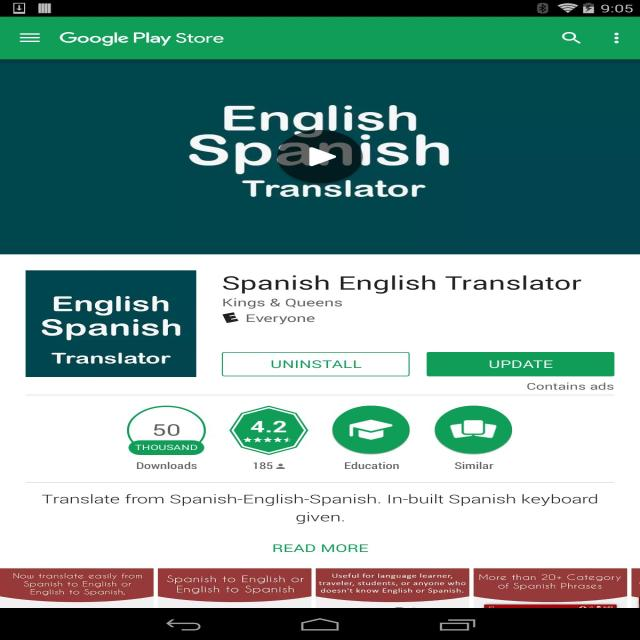button: (426, 352, 614, 377), (222, 352, 409, 376), (276, 132, 363, 181), (18, 30, 43, 47), (559, 30, 581, 49), (608, 29, 628, 46)
heading: (218, 273, 586, 293), (59, 30, 226, 46)
image: (1, 61, 639, 254), (26, 271, 196, 376), (330, 403, 412, 456), (225, 405, 312, 454), (122, 405, 208, 454), (436, 402, 512, 454)
link: (268, 542, 372, 555)
text: (40, 493, 600, 525), (8, 571, 146, 599), (318, 572, 467, 597), (162, 573, 307, 598), (221, 296, 345, 325), (478, 573, 623, 597), (527, 382, 615, 392), (136, 462, 202, 473), (342, 460, 401, 471), (453, 461, 496, 474), (252, 461, 288, 472)
